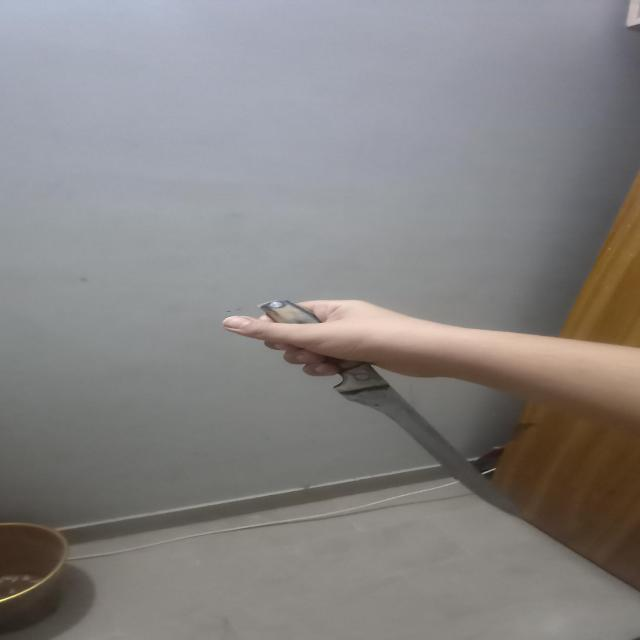Knife: (264, 302, 520, 511)
Person: (227, 300, 640, 424)
